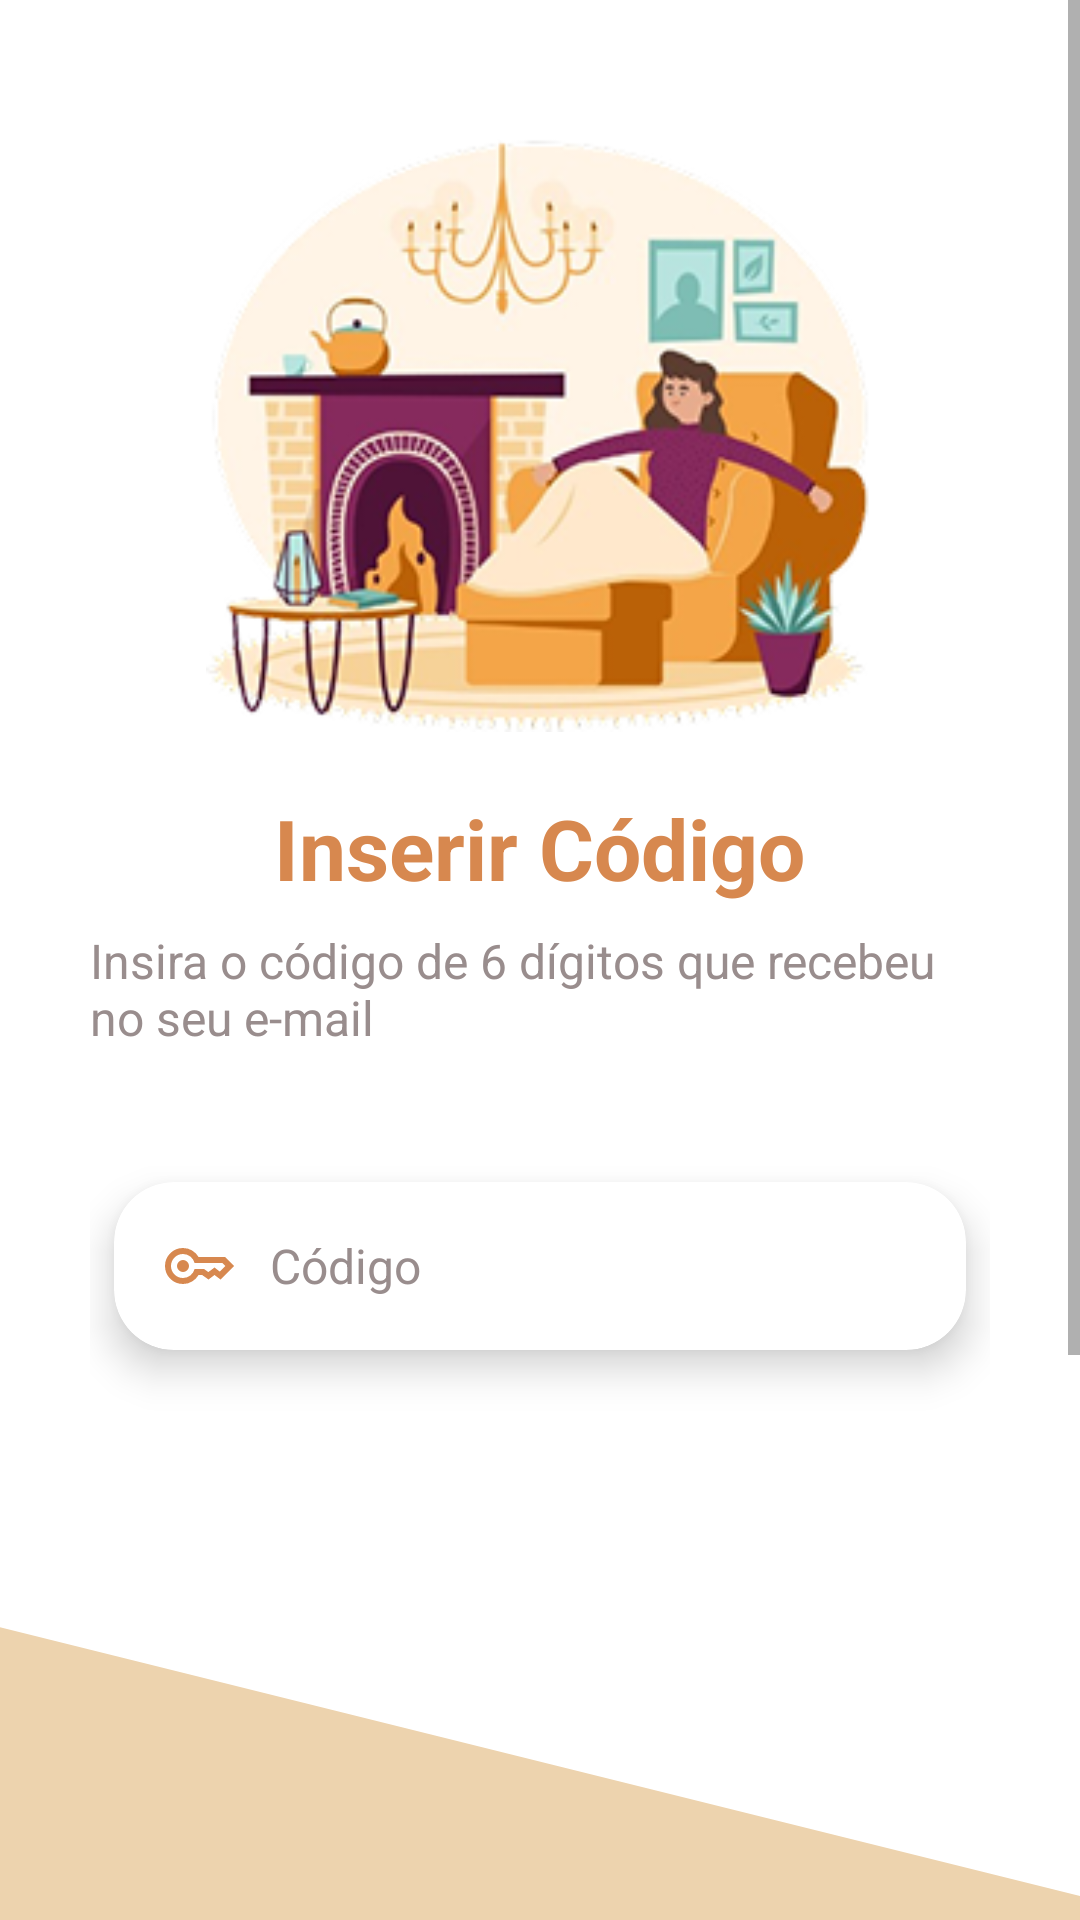

Screen size 1080 x 1920. Icon name, then its box in pixels as (x1, y1, x2, y2):
key: (165, 1248, 234, 1284)
